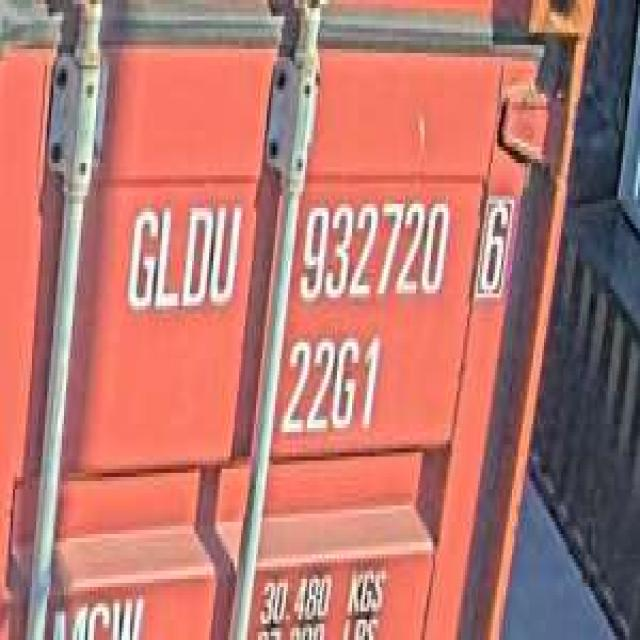dv: (474, 183, 516, 306)
owner: (120, 188, 243, 326)
serial: (295, 187, 450, 310)
size: (279, 326, 384, 444)
